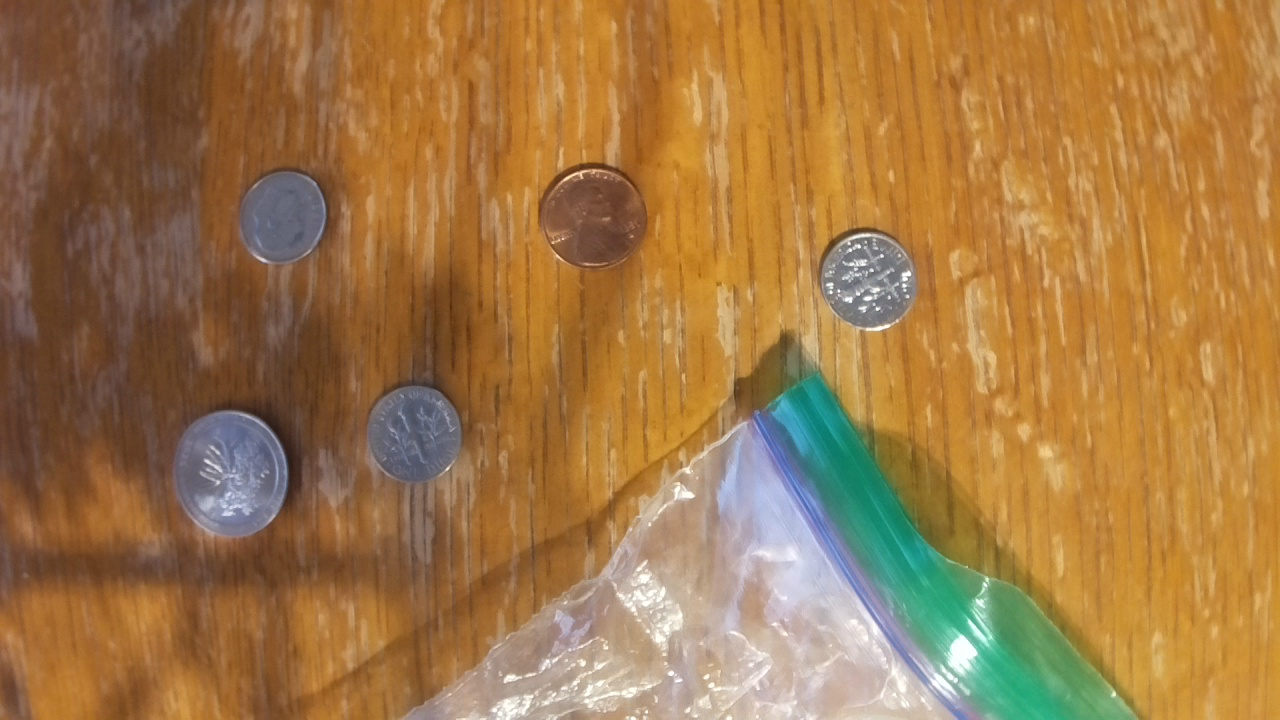dime: (816, 229, 916, 331), (365, 382, 464, 484), (238, 169, 330, 267)
penny: (539, 165, 648, 269)
quarter: (173, 408, 292, 538)
